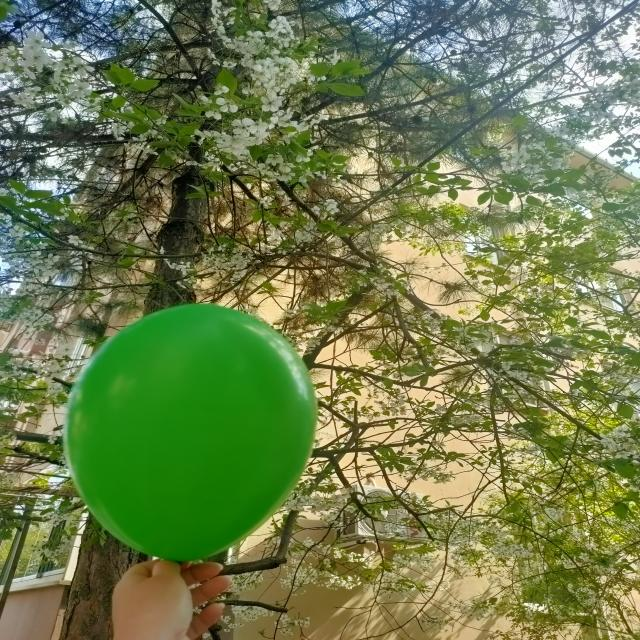green: (67, 306, 318, 562)
